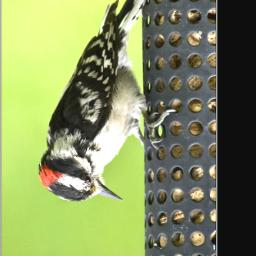Woodpecker: (39, 0, 171, 206)
